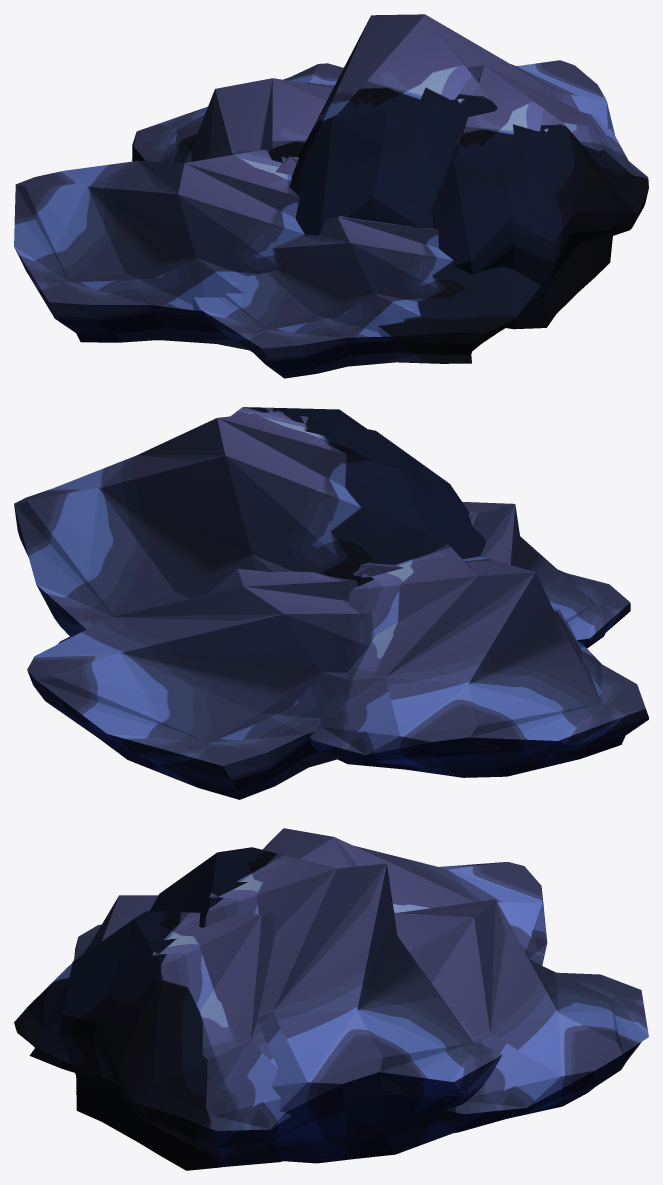
File: rock_export_0001.glb
3 renders of one model, top to bottom at view 1: azimuth 30°, elevation 25°; view 2: azimuth 150°, elevation 25°; view 3: azimuth 270°, elevation 25°, orthographic. The views are drawn at different scales.
Parts seen in each view (by area): view 1: rock_export_0001; view 2: rock_export_0001; view 3: rock_export_0001.
Boxes of the visible parts, x1,y1,x2,y2 form: rock_export_0001: [14, 14, 648, 378]; rock_export_0001: [14, 407, 648, 799]; rock_export_0001: [14, 828, 648, 1170].
Size of the model in its own units: 9.9 by 3.91 by 8.99.
1 material, 1 textured.
